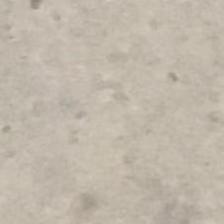Non_Crack: (14, 2, 212, 224)
